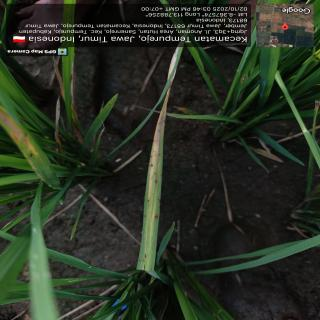Hawar-Daun: (147, 81, 171, 197)
